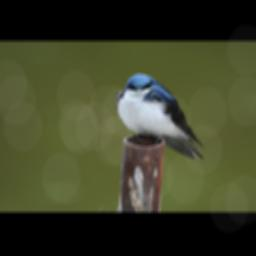Swallow: (115, 73, 207, 160)
